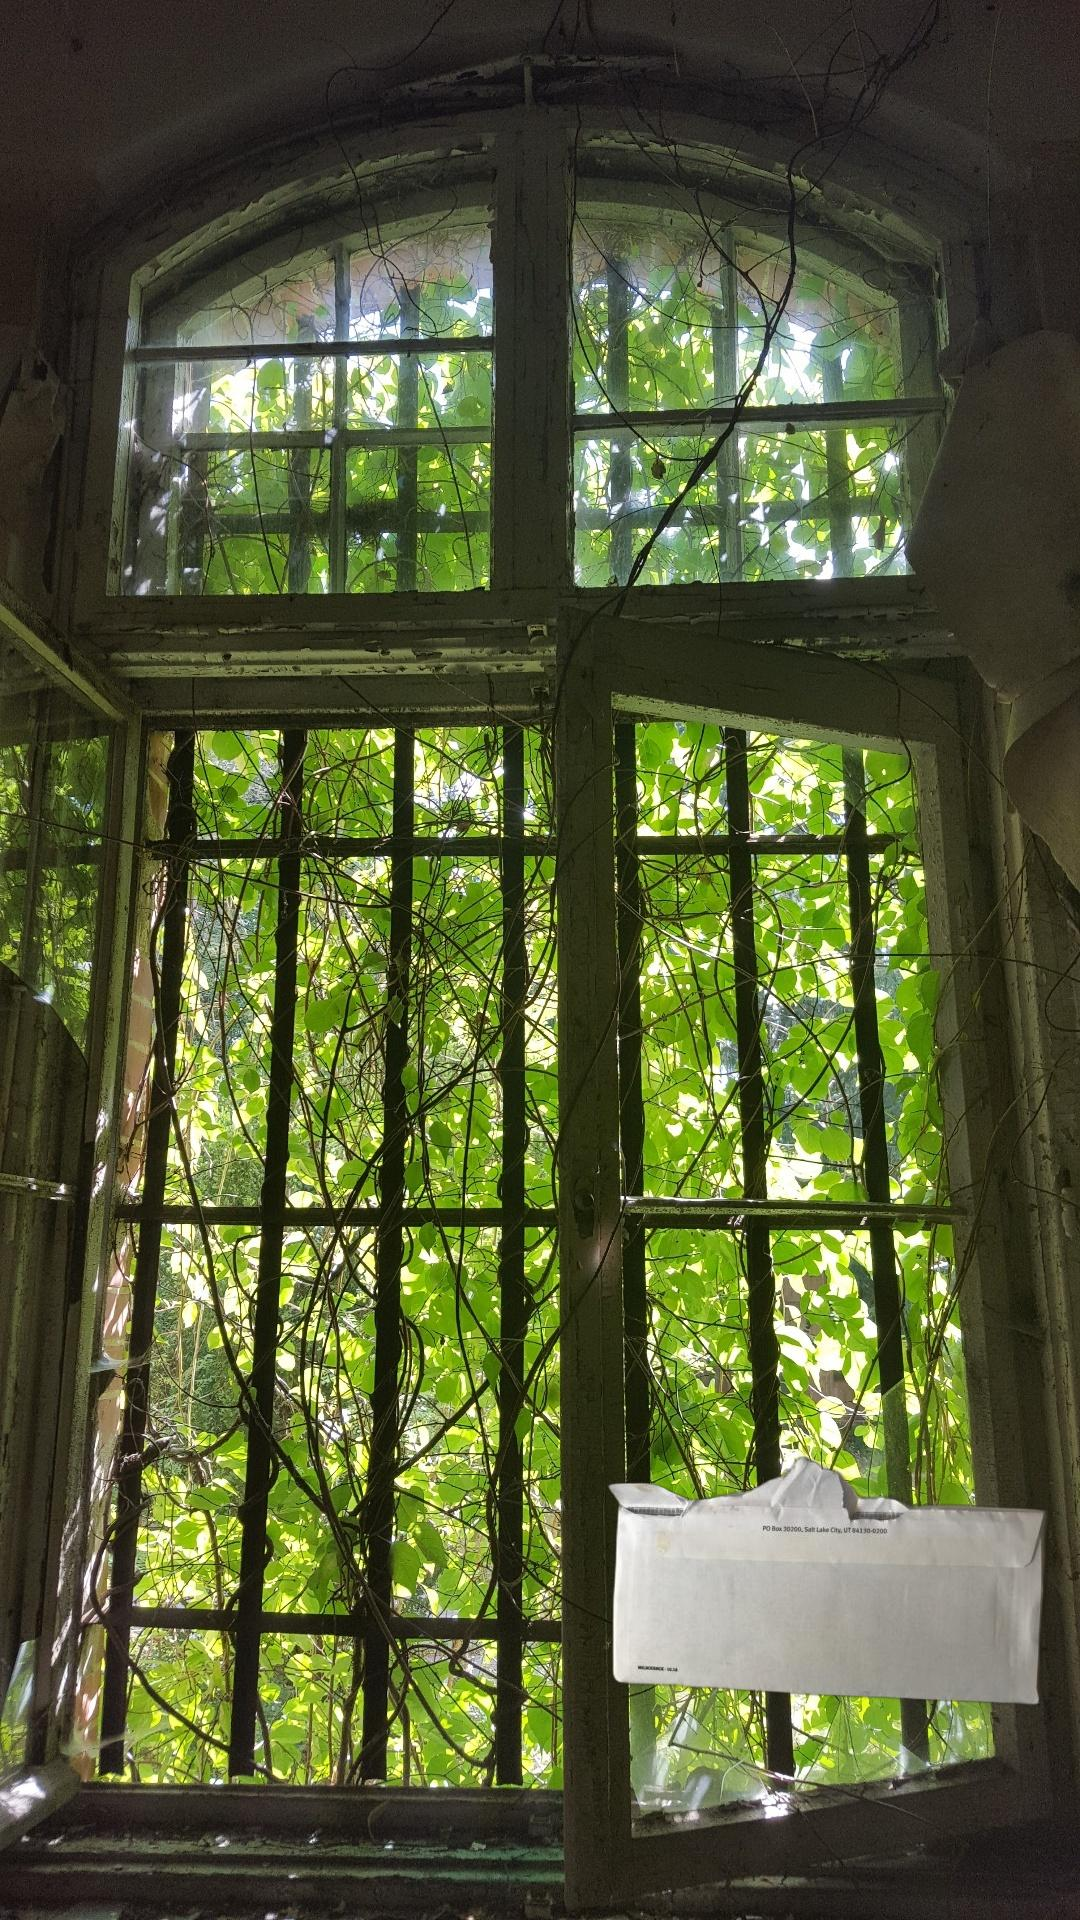paper: (603, 1453, 1054, 1709)
